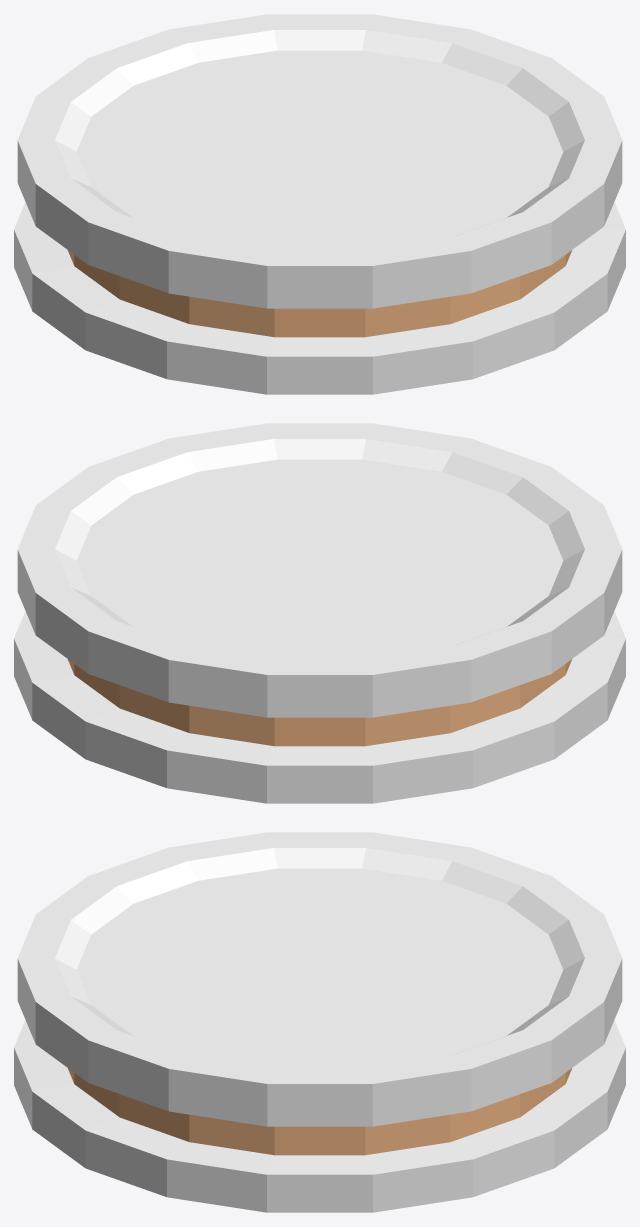
The model's file is Oreo.fbx.
3 views of the same model, one above another, from view 1: azimuth 30°, elevation 25°; view 2: azimuth 150°, elevation 25°; view 3: azimuth 270°, elevation 25° (orthographic).
Parts seen in each view (by area): view 1: Cylinder; view 2: Cylinder; view 3: Cylinder.
Boxes of the visible parts, left/top/right/bottom form: Cylinder: left=14, top=14, right=625, bottom=394; Cylinder: left=14, top=423, right=625, bottom=803; Cylinder: left=14, top=832, right=625, bottom=1212.
Size of the model in its own units: 197 by 45.85 by 200.
